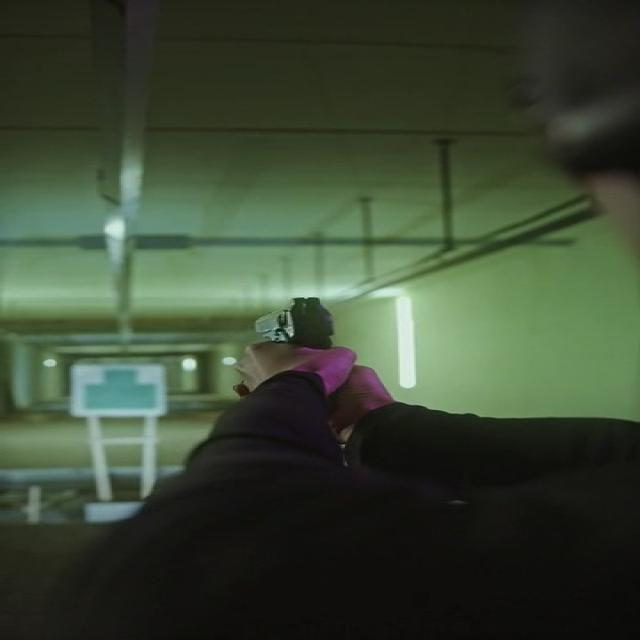Gun_Holder: (197, 292, 441, 455)
